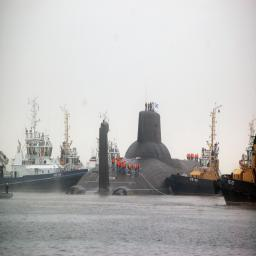submarine: (70, 110, 205, 194)
